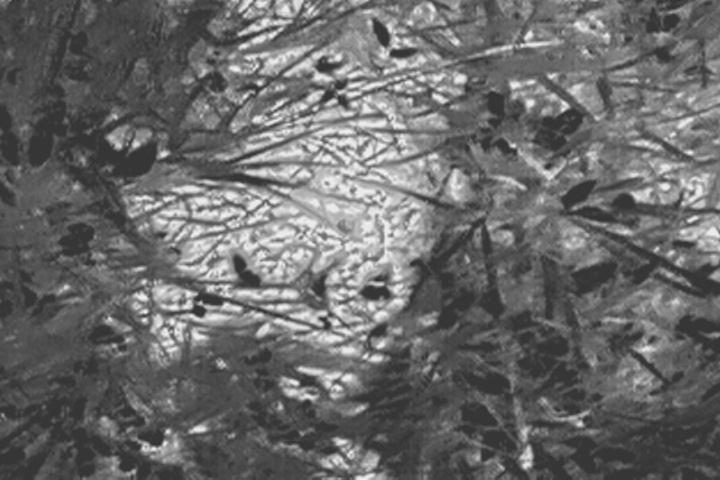landmine: (102, 64, 441, 349)
